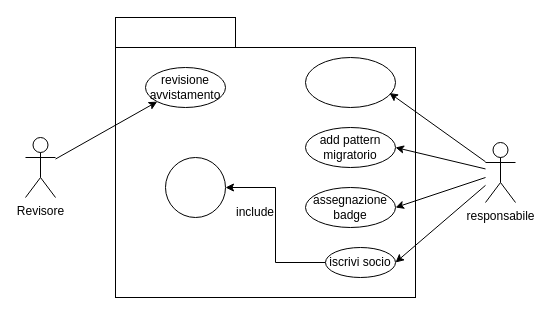
The diagram is 552 pixels wide and 315 high, and some of its shapes have lost their labels. Here are the shapes that lost their labels. From the top down, the centre of each, then its label:
At point 175,32: "database".
At point 350,82: "add avvistamento".
At point 195,187: "genera codice tessera".
